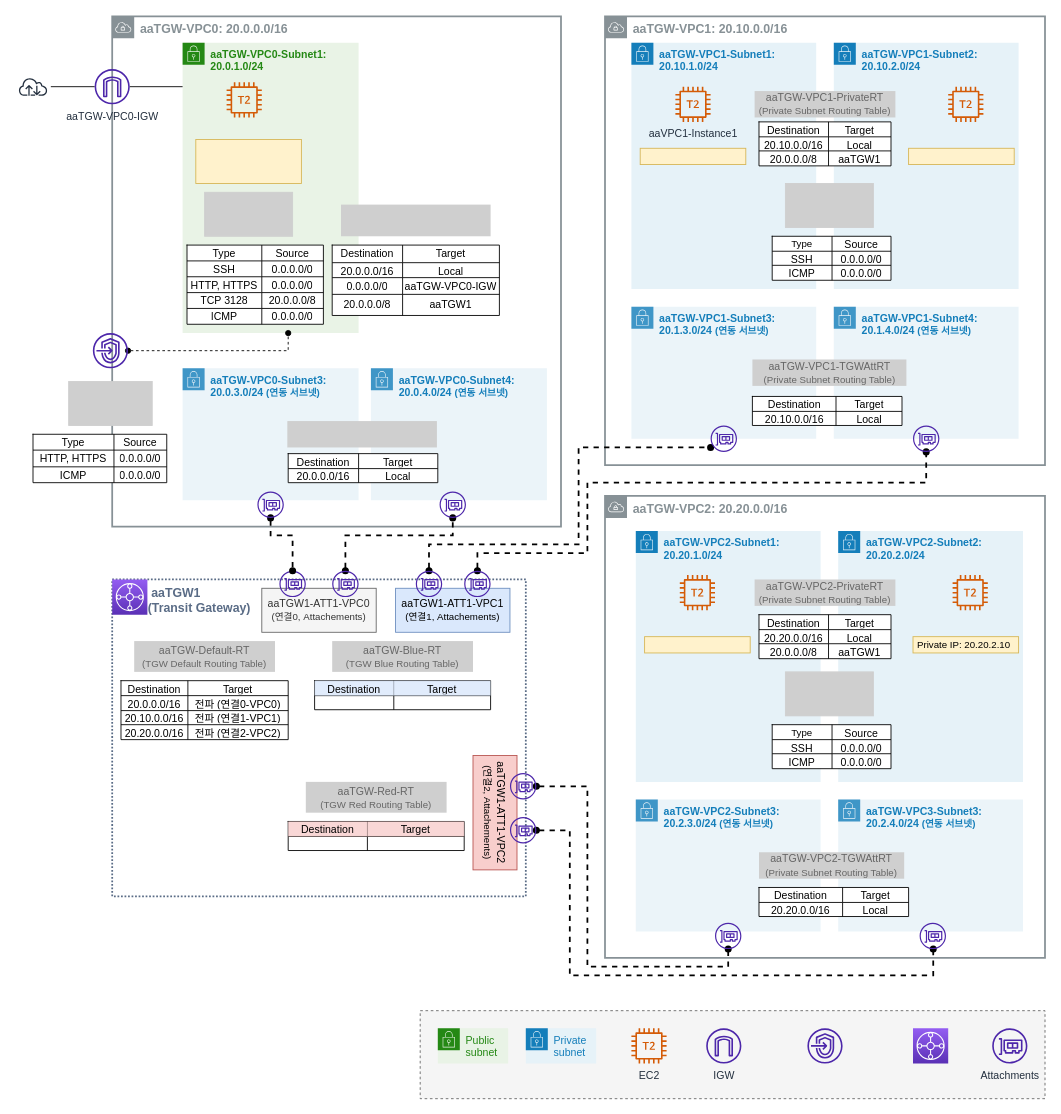
This 1061x1114 diagram has some shape labels left out. Each missing label, with the centre of its shape:
"aaTGW-VPC0-PublicRT (Public Subnet Routing Table)" belongs at [415,220].
"aaTGW-VPC0-TGWAttRT (Private Subnet Routing Table)" belongs at [361,434].
"aaVPC0-Instance1" belongs at [243,99].
"aaVPC0SG1 (Security Group, Inbound Rule)" belongs at [248,213].
"aaVPC0SG2 (Security Group, Inbound Rule)" belongs at [110,403].
"aaVPC1-Instance2" belongs at [965,103].
"aaVPC1SG1 (Security Group, Inbound Rule)" belongs at [829,205].
"aaVPC2-Instance1" belongs at [697,592].
"aaVPC2-Instance2" belongs at [969,592].
"aaVPC2SG1 (Security Group, Inbound Rule)" belongs at [829,693].
"Interface Endpoint (CloudFormation Endpoint)" belongs at [824,1045].
"Internet" belongs at [33,86].
"Private IP: 20.0.1.10 Public IP 사용 Web Proxy Server" belongs at [248,161].
"Private IP: 20.10.1.10" belongs at [692,156].
"Private IP: 20.10.2.10" belongs at [961,156].
"Private IP: 20.20.1.10" belongs at [697,644].
"Transit Gateway" belongs at [930,1045].
